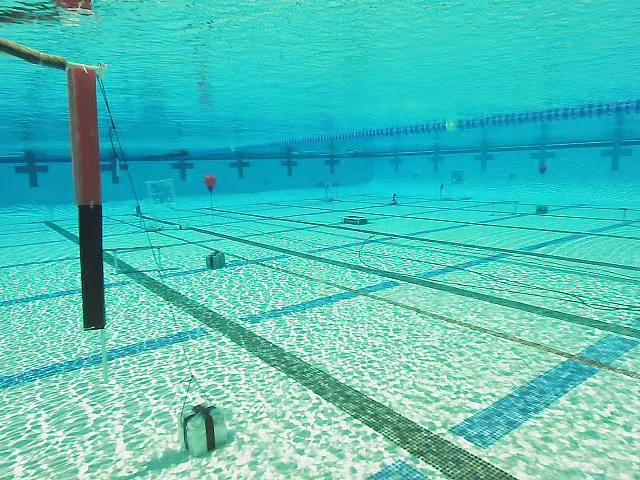buoy: (204, 175, 218, 193)
dropper: (343, 214, 368, 225)
gate_leg_r: (67, 66, 107, 331)
torpedo: (147, 180, 175, 205)
